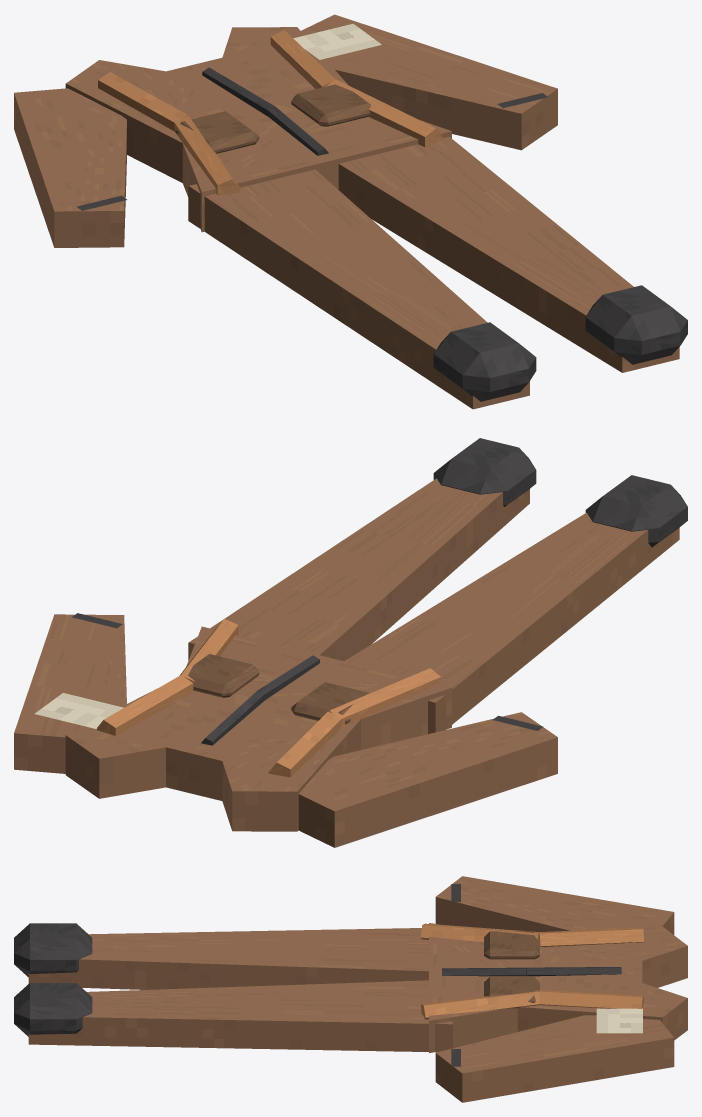
Rendered from xedra_enviro_suit.glb.
The picture shows the model from 3 angles, top to bottom: view 1: azimuth 30°, elevation 25°; view 2: azimuth 150°, elevation 25°; view 3: azimuth 270°, elevation 25°; orthographic projection. The views are drawn at different scales.
Parts seen in each view (by area): view 1: block_integral trouser leg (×2), block_sleeve (×2), block_suit torso, block_sealed cuff or boot (×2), block_utility pocket (×2), block_orange flight suit panel 1 (×2), block_orange flight suit panel 0 (×2), block_white shoulder patch, block_sealed front zipper 0, block_sealed front zipper 1; view 2: block_integral trouser leg (×2), block_suit torso, block_sleeve (×2), block_sealed cuff or boot (×2), block_orange flight suit panel 0 (×2), block_utility pocket (×2), block_orange flight suit panel 1 (×2), block_white shoulder patch, block_sealed front zipper 0, block_sealed front zipper 1; view 3: block_integral trouser leg (×2), block_sleeve (×2), block_suit torso, block_sealed cuff or boot (×2), block_orange flight suit panel 0 (×2), block_orange flight suit panel 1 (×2), block_utility pocket (×2), block_white shoulder patch, block_sealed front zipper 0, block_sealed front zipper 1.
Part boxes in pixels (x1,y1,x2,y2): block_integral trouser leg (×2): (188, 136, 679, 409); block_sleeve (×2): (14, 14, 557, 247); block_suit torso: (65, 27, 451, 232); block_sealed cuff or boot (×2): (433, 285, 687, 401); block_utility pocket (×2): (175, 84, 370, 153); block_orange flight suit panel 1 (×2): (174, 79, 442, 195); block_orange flight suit panel 0 (×2): (98, 30, 335, 131); block_white shoulder patch: (293, 23, 381, 59); block_sealed front zipper 0: (202, 67, 275, 116); block_sealed front zipper 1: (268, 107, 328, 155); block_integral trouser leg (×2): (188, 478, 679, 733); block_suit torso: (65, 626, 451, 831); block_sleeve (×2): (14, 614, 557, 847); block_sealed cuff or boot (×2): (433, 438, 687, 547); block_orange flight suit panel 0 (×2): (96, 675, 341, 777); block_utility pocket (×2): (188, 654, 369, 724); block_orange flight suit panel 1 (×2): (180, 618, 441, 727); block_white shoulder patch: (34, 693, 123, 729); block_sealed front zipper 0: (201, 690, 264, 745); block_sealed front zipper 1: (258, 655, 319, 700); block_integral trouser leg (×2): (28, 928, 452, 1052); block_sleeve (×2): (435, 876, 674, 1102); block_suit torso: (429, 923, 687, 1052); block_sealed cuff or boot (×2): (14, 923, 92, 1036); block_orange flight suit panel 0 (×2): (539, 927, 644, 1008); block_orange flight suit panel 1 (×2): (420, 923, 539, 1019); block_utility pocket (×2): (484, 931, 539, 1002); block_white shoulder patch: (596, 1008, 642, 1033); block_sealed front zipper 0: (526, 967, 621, 976); block_sealed front zipper 1: (442, 967, 526, 976).
Bounding box in the file's own units: 0.9055 × 0.0956 × 1.31.
Materials: 1 (1 with a texture image).
